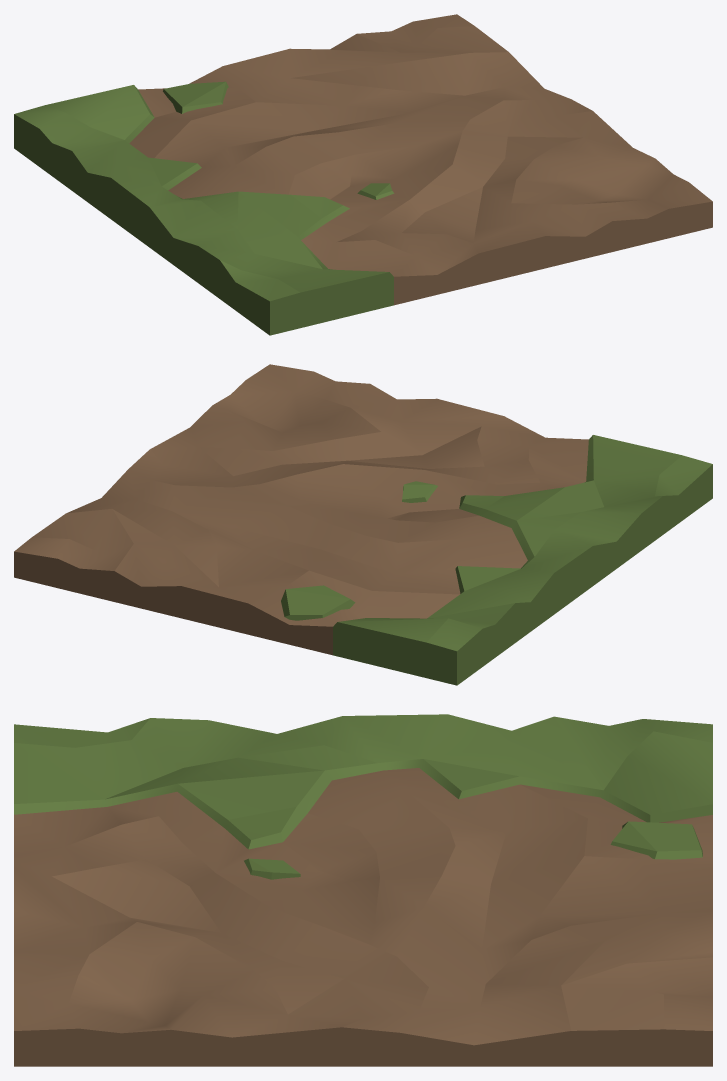
File: Ground_Edge_L.glb
3 views of the same model, one above another, from view 1: azimuth 30°, elevation 25°; view 2: azimuth 150°, elevation 25°; view 3: azimuth 270°, elevation 25° (orthographic). The views are drawn at different scales.
Visible parts, largest first — view 1: Ground_Edge_L; view 2: Ground_Edge_L; view 3: Ground_Edge_L.
Boxes of the visible parts, bbox=[...] form: Ground_Edge_L: bbox=[14, 14, 712, 335]; Ground_Edge_L: bbox=[14, 364, 712, 685]; Ground_Edge_L: bbox=[14, 714, 712, 1066].
Size of the model in its own units: 1.47 by 0.1393 by 1.47.
